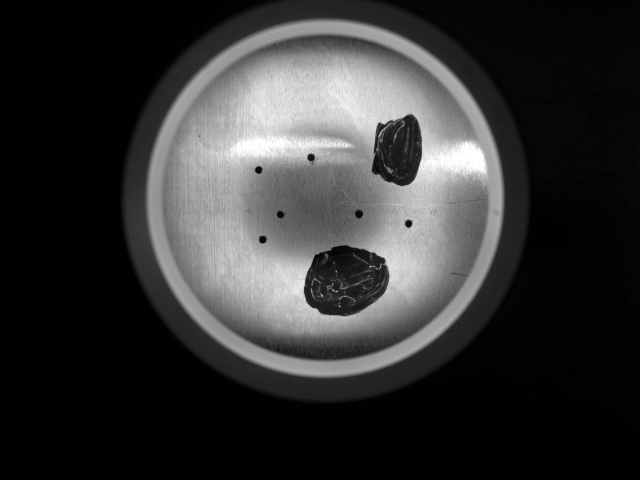zang_wu: (299, 238, 401, 319), (365, 106, 435, 192)
zhen_kong: (299, 146, 323, 171), (270, 202, 292, 229), (349, 203, 370, 225), (396, 214, 419, 234), (247, 160, 271, 179), (249, 231, 275, 247)
